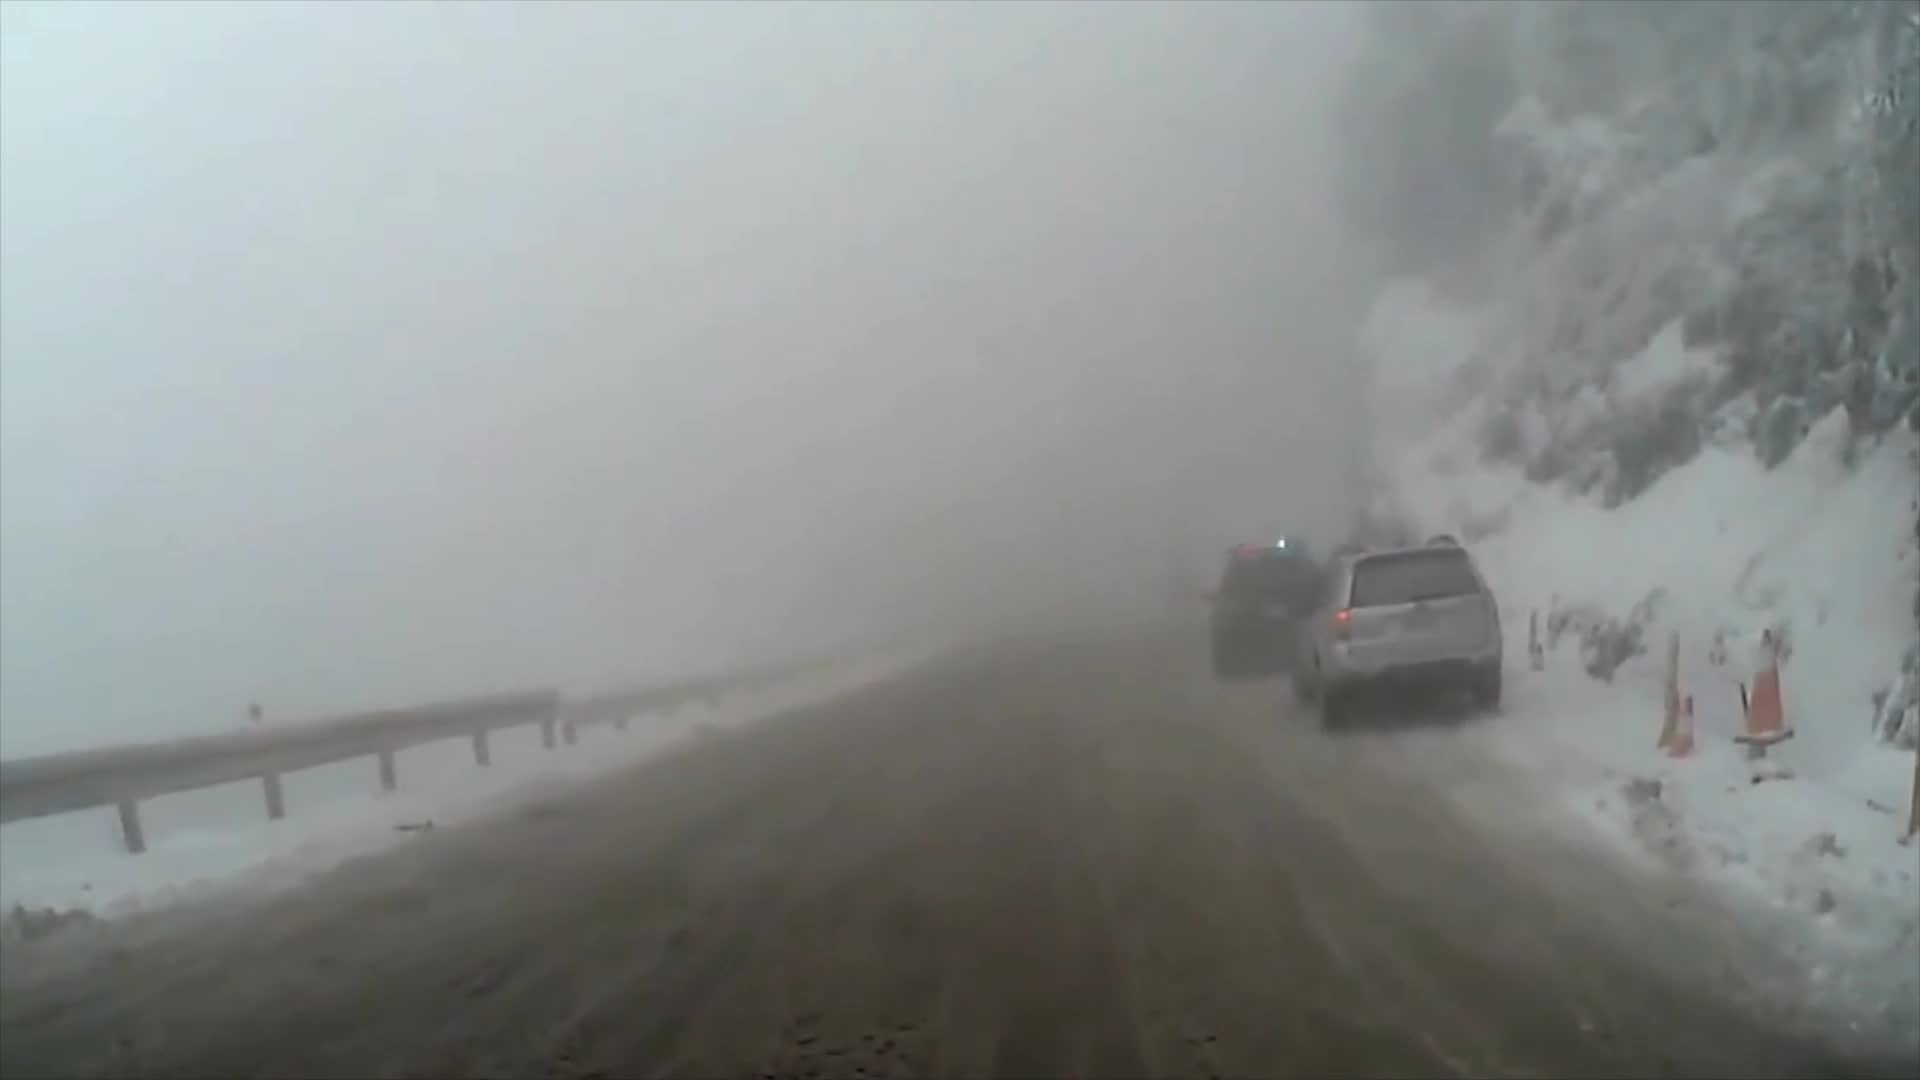vehicle: (1288, 531, 1503, 735), (1195, 531, 1333, 680)
